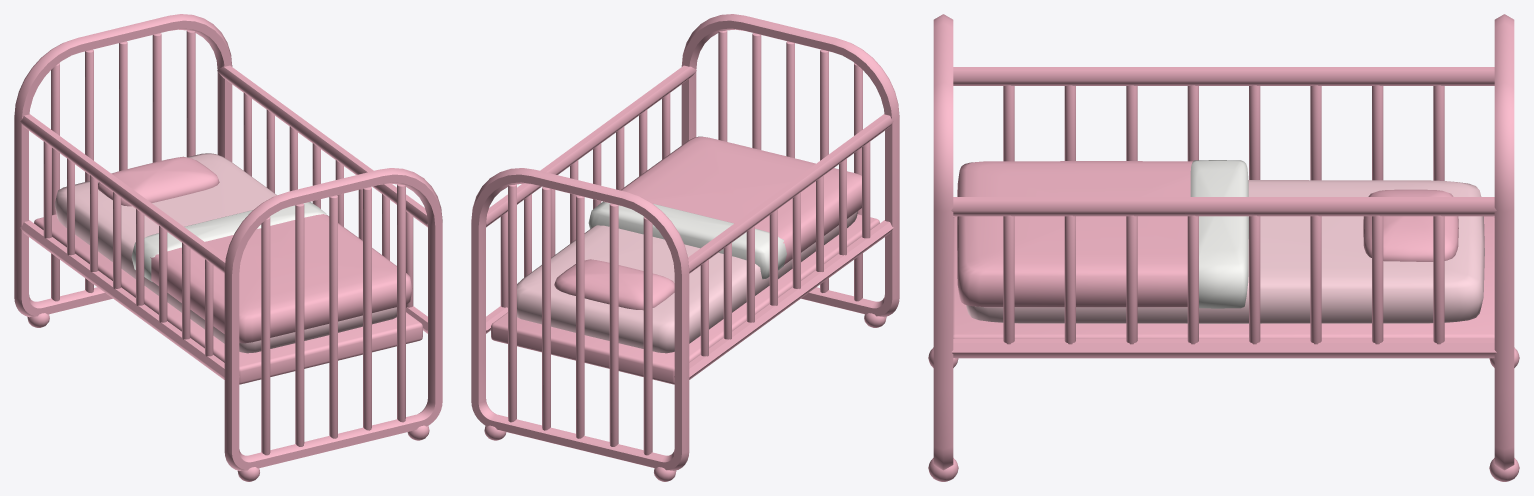
The model's file is berco_redondo_rosa.glb.
3 views of the same model, side by side, from view 1: azimuth 30°, elevation 25°; view 2: azimuth 150°, elevation 25°; view 3: azimuth 270°, elevation 25° (orthographic). The views are drawn at different scales.
Visible parts, largest first — view 1: berco_redondo_rosa; view 2: berco_redondo_rosa; view 3: berco_redondo_rosa.
Part boxes in pixels (bbox=[...]): berco_redondo_rosa: bbox=[14, 14, 442, 481]; berco_redondo_rosa: bbox=[471, 14, 899, 481]; berco_redondo_rosa: bbox=[928, 14, 1519, 481].
Bounding box in the file's own units: 0.772 × 0.946 × 1.36.
1 material, 1 textured.
